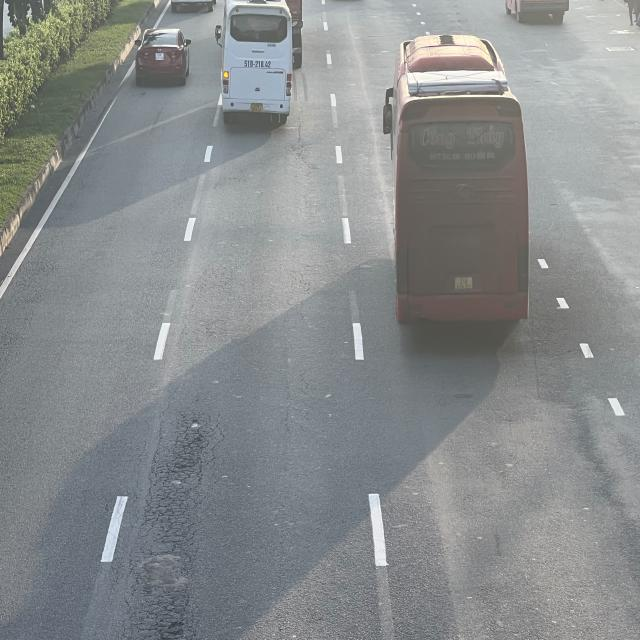car: (137, 29, 195, 86)
coach: (383, 32, 528, 328), (214, 0, 297, 119)
